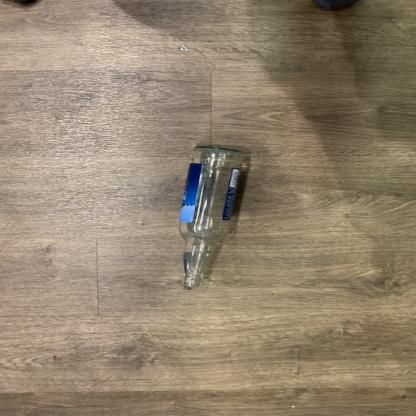trash: (174, 143, 248, 298)
